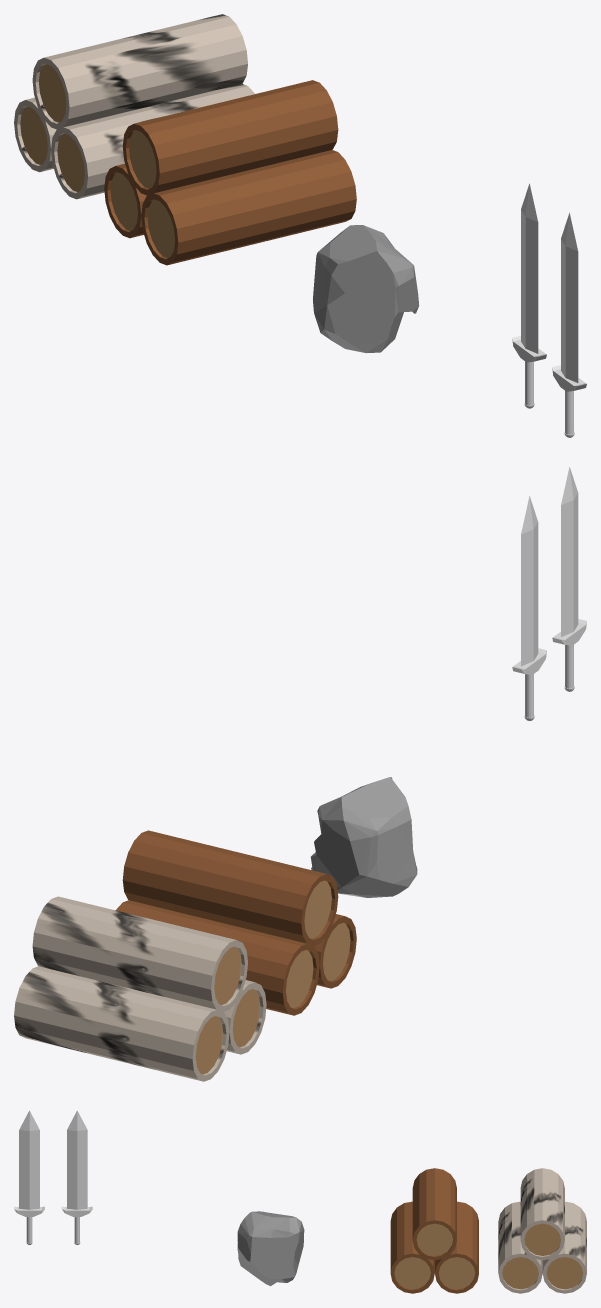
The model's file is Sword.fbx.
3 views of the same model, one above another, from view 1: azimuth 30°, elevation 25°; view 2: azimuth 150°, elevation 25°; view 3: azimuth 270°, elevation 25° (orthographic). The views are drawn at different scales.
Parts seen in each view (by area): view 1: WoodPile, WoodPile.001, Cube, Sword.001, Cube.001; view 2: WoodPile.001, WoodPile, Cube, Sword.001, Cube.001; view 3: WoodPile, WoodPile.001, Cube, Sword.001, Cube.001.
Boxes of the visible parts, box(x1,y1,x2,y2) form: WoodPile: box(104, 80, 356, 265); WoodPile.001: box(14, 14, 254, 199); Cube: box(313, 225, 419, 353); Sword.001: box(552, 212, 586, 437); Cube.001: box(521, 183, 538, 353); WoodPile.001: box(14, 896, 266, 1081); WoodPile: box(115, 830, 356, 1015); Cube: box(310, 777, 417, 897); Sword.001: box(552, 467, 586, 691); Cube.001: box(521, 496, 538, 666); WoodPile: box(390, 1168, 478, 1293); WoodPile.001: box(498, 1168, 586, 1293); Cube: box(237, 1211, 304, 1286); Sword.001: box(14, 1110, 44, 1244); Cube.001: box(67, 1110, 87, 1209).
Bounding box in the file's own units: 113 × 174 × 527.
